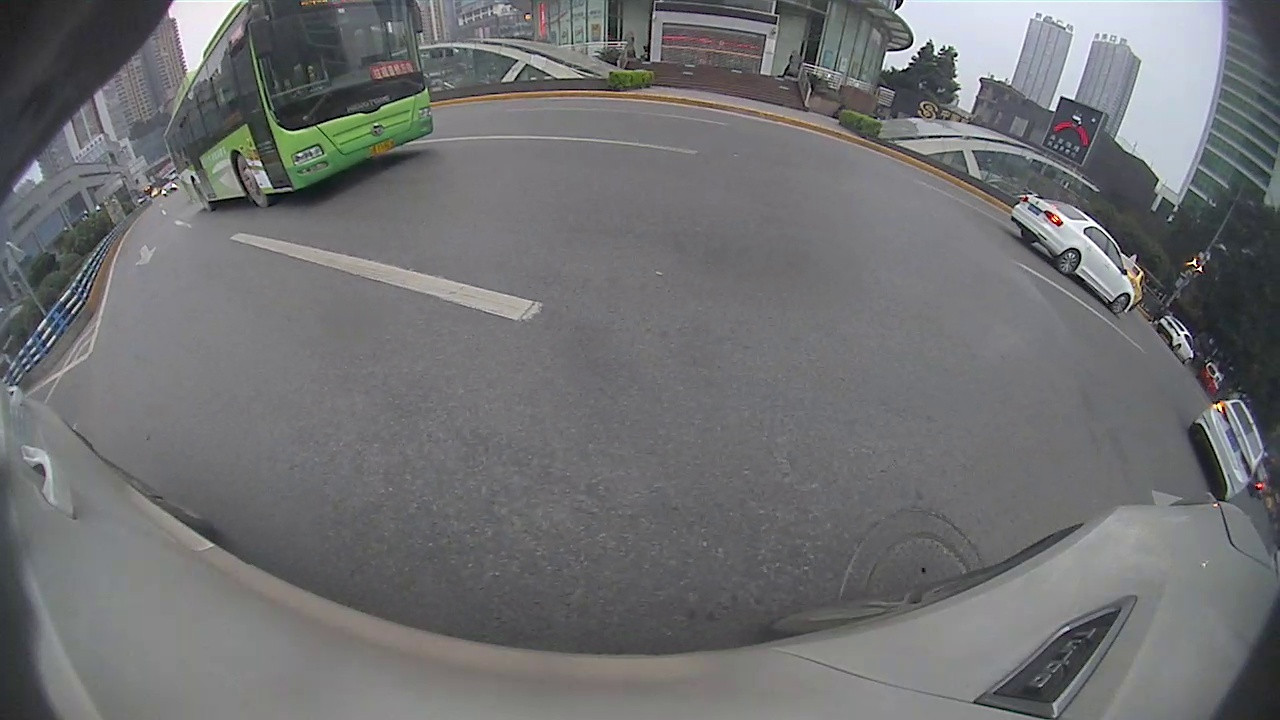bus: (161, 1, 437, 215)
car: (1008, 193, 1138, 318), (1186, 399, 1267, 504)
front: (234, 156, 270, 210), (1109, 293, 1131, 316)
rear: (1058, 249, 1081, 278)
